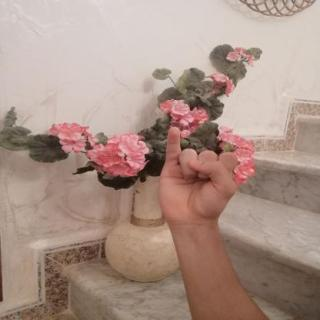MEEM: (146, 118, 248, 232)
